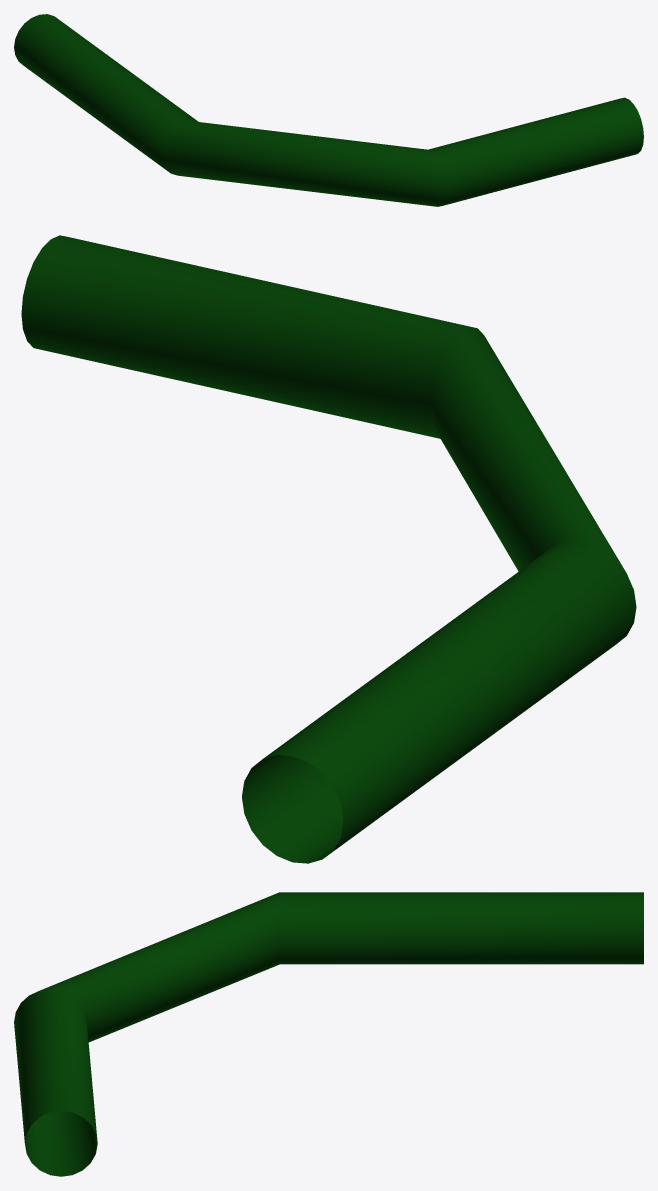
3 views of the same model, one above another, from view 1: azimuth 30°, elevation 25°; view 2: azimuth 150°, elevation 25°; view 3: azimuth 270°, elevation 25° (orthographic). The views are drawn at different scales.
Visible parts, largest first — view 1: Cylinder001; view 2: Cylinder001; view 3: Cylinder001.
Part boxes in pixels (x1,y1,x2,y2): Cylinder001: [14, 14, 643, 206]; Cylinder001: [21, 235, 636, 863]; Cylinder001: [14, 892, 643, 1176].
Size of the model in its own units: 75 by 10 by 86.49.
